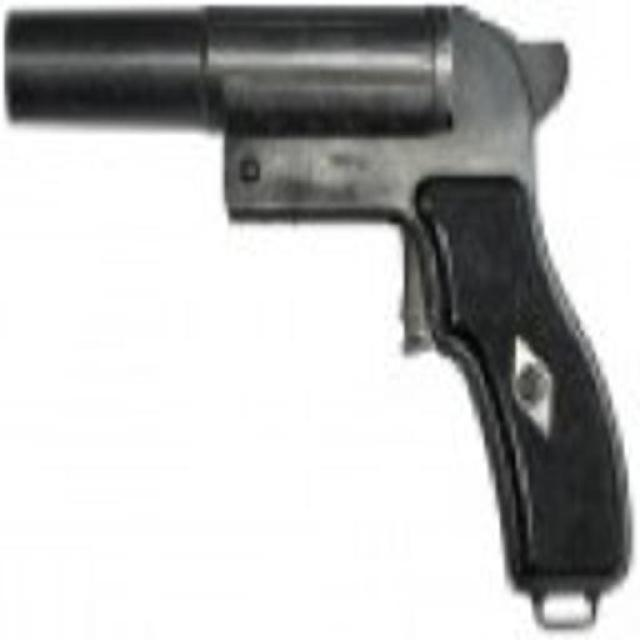pistol: (7, 5, 631, 602)
